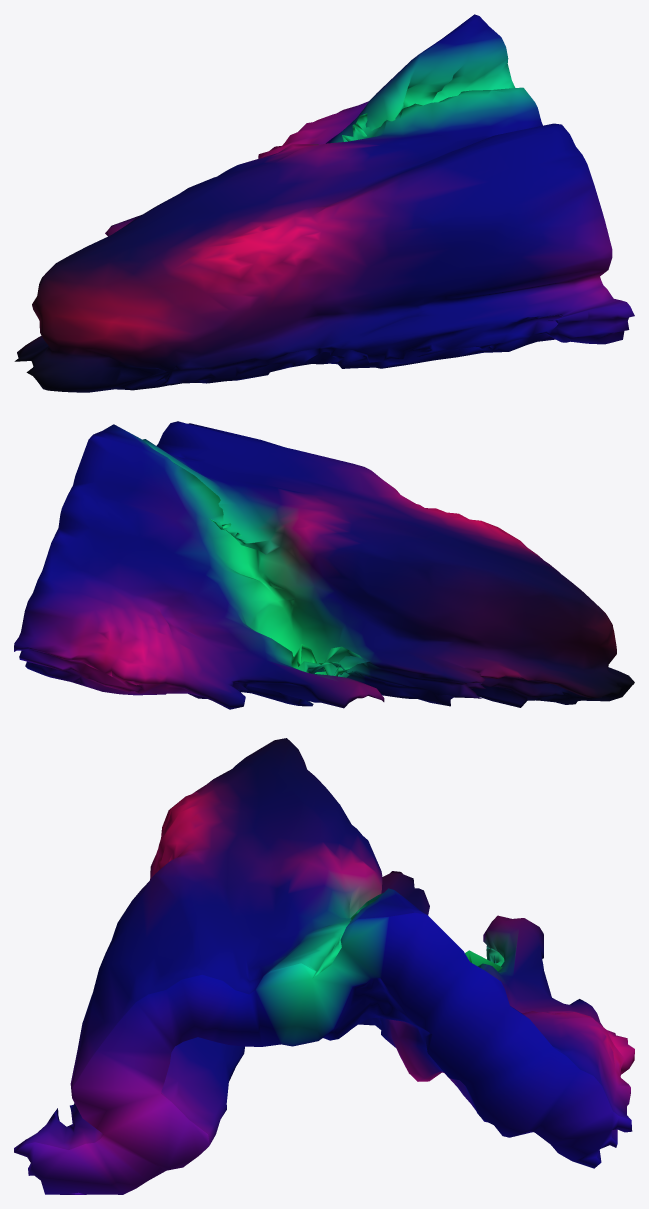
Rendered from tin_vein-u2-cracked-lod0.gltf.
The picture shows the model from 3 angles, top to bottom: view 1: azimuth 30°, elevation 25°; view 2: azimuth 150°, elevation 25°; view 3: azimuth 270°, elevation 25°; orthographic projection. The views are drawn at different scales.
Visible parts, largest first — view 1: tin_vein-u2-cracked-lod0; view 2: tin_vein-u2-cracked-lod0; view 3: tin_vein-u2-cracked-lod0.
Part boxes in pixels (<box>): tin_vein-u2-cracked-lod0: <box>14,14,634,392</box>; tin_vein-u2-cracked-lod0: <box>14,421,634,709</box>; tin_vein-u2-cracked-lod0: <box>14,738,634,1194</box>.
Size of the model in its own units: 0.8336 by 0.3392 by 0.6762.
